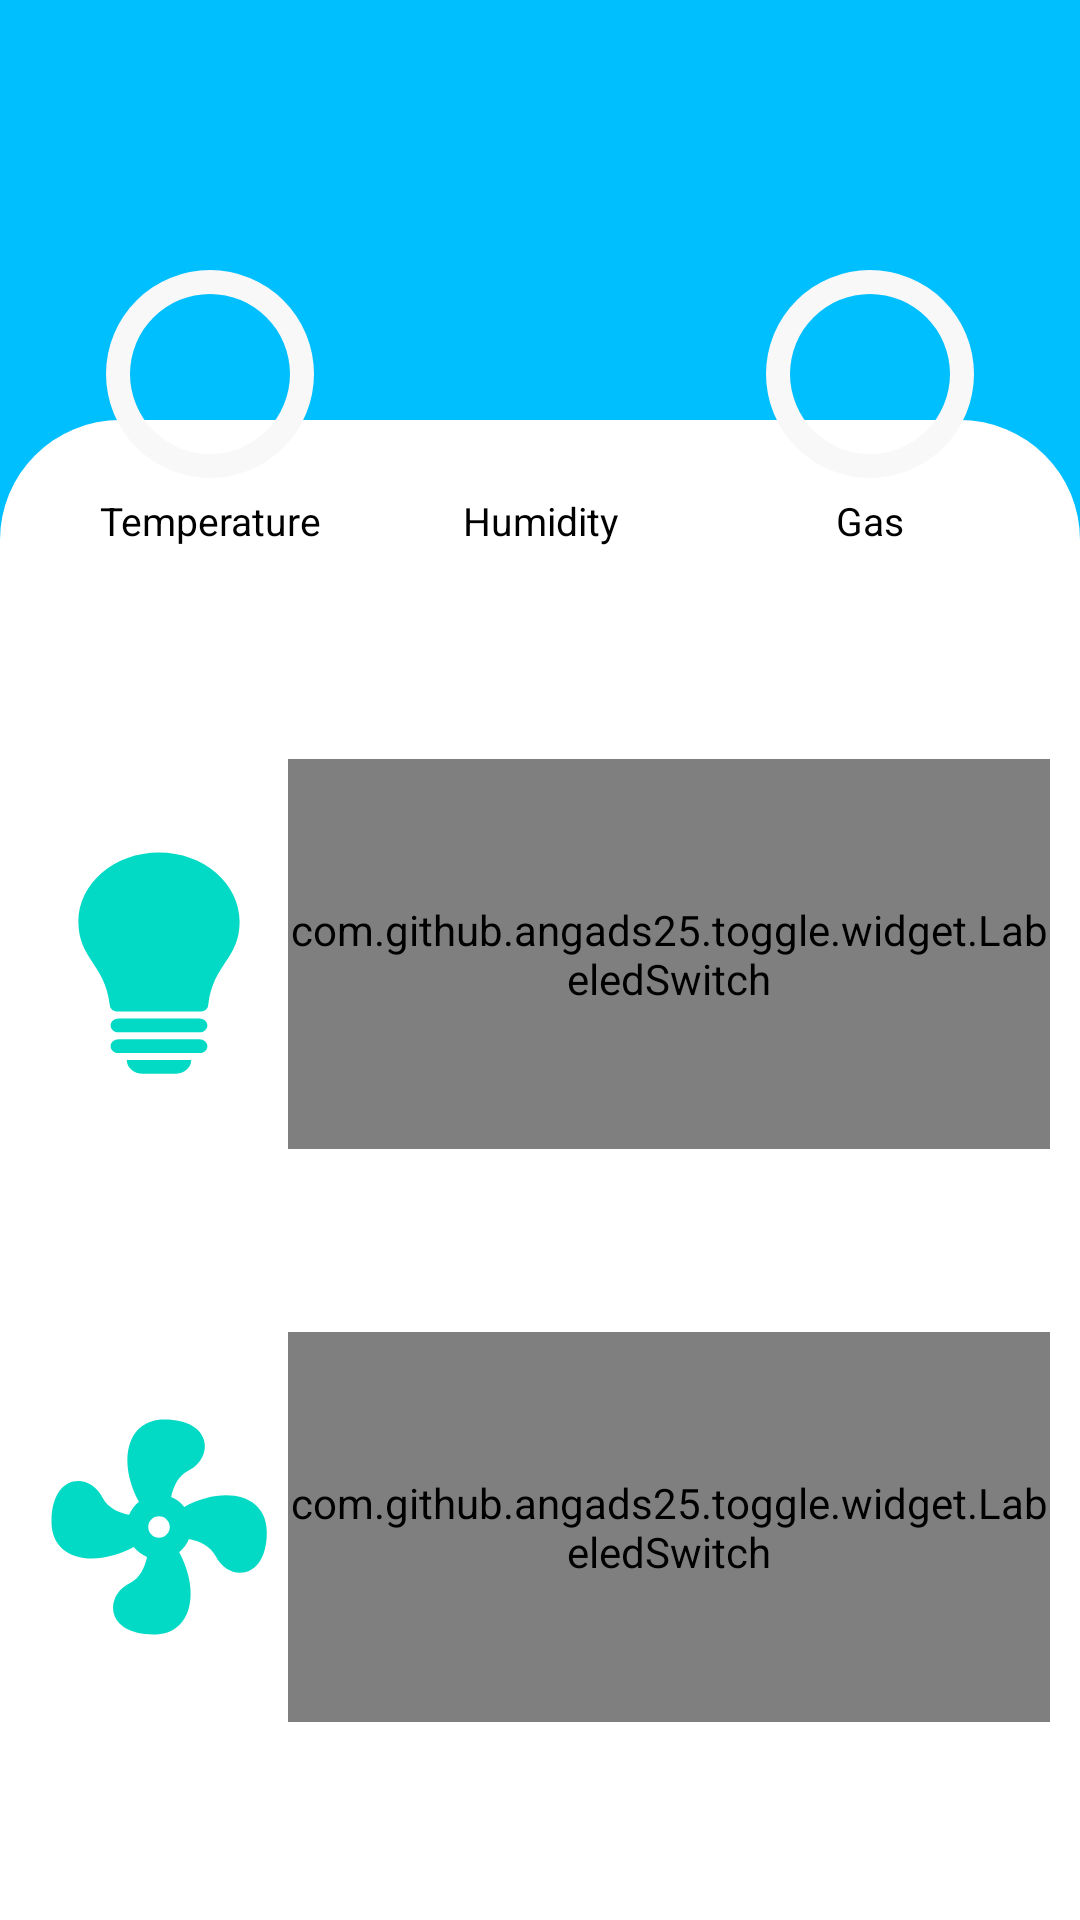

Icon bounding boxes for this 1080*1920 phone screenshot, format (x1, y1, x2, y2):
fan: (51, 1419, 267, 1635)
